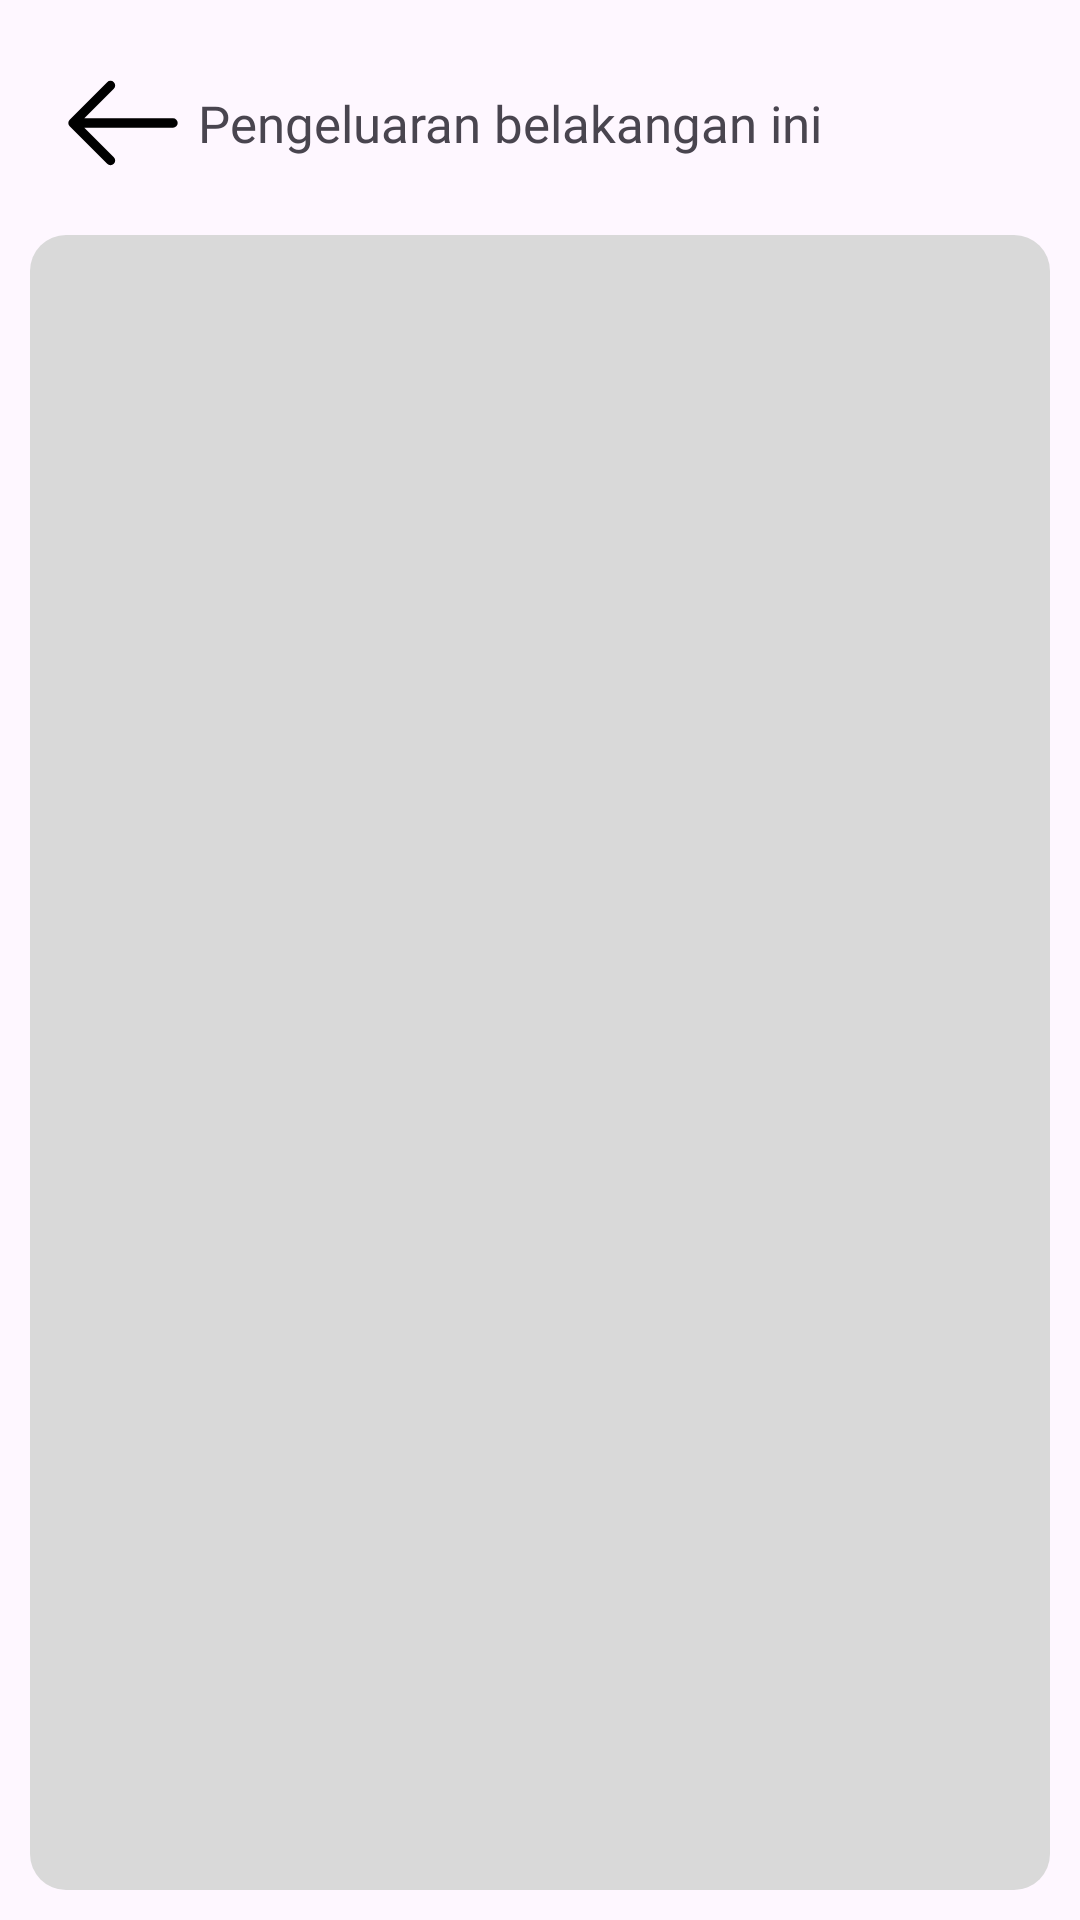

Icon bounding boxes for this 1080*1920 phone screenshot, format [x1,y1,x2,y2]:
back: [68,80,178,166]
